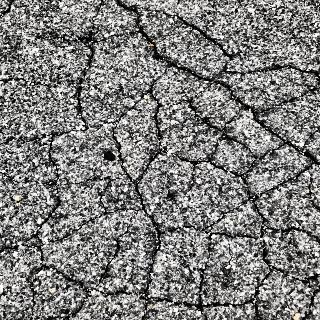alligator-crack: (127, 28, 307, 280)
crack: (26, 132, 74, 240), (57, 23, 103, 113)
